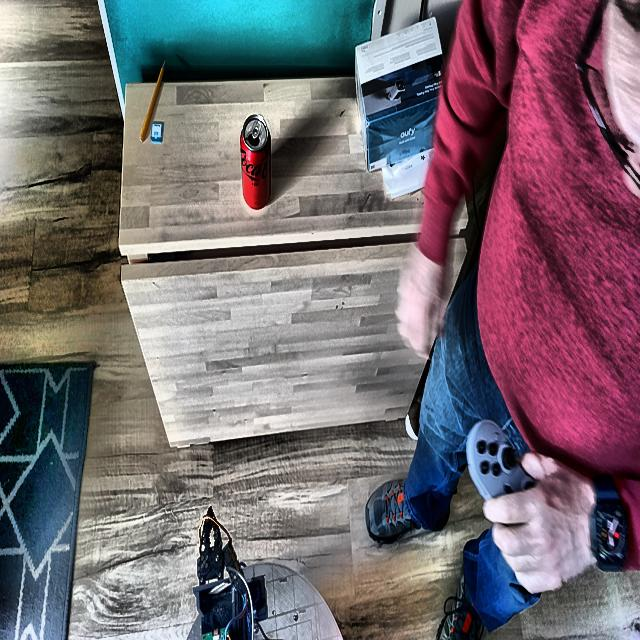Can: (241, 115, 270, 209)
